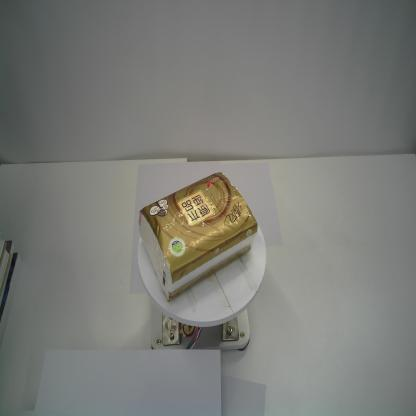Tissue: (138, 172, 258, 304)
